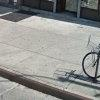Bicycle: (80, 48, 99, 81)
